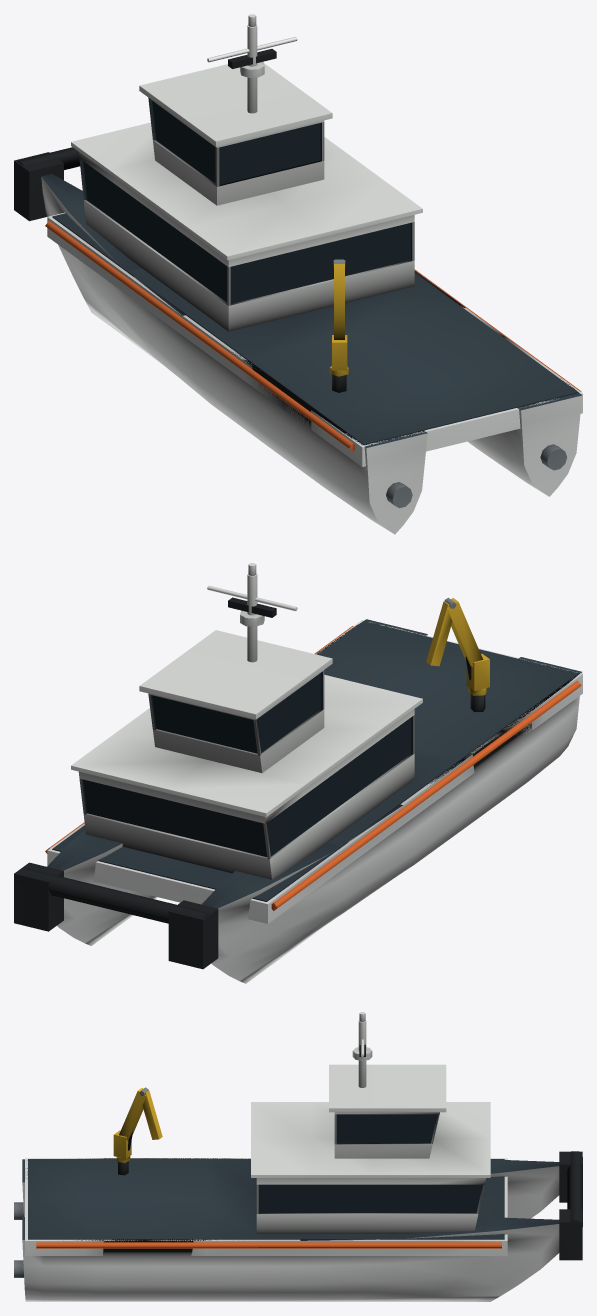
File: crew_boat_LOD1.glb
3 renders of one model, top to bottom at view 1: azimuth 30°, elevation 25°; view 2: azimuth 150°, elevation 25°; view 3: azimuth 270°, elevation 25°, orthographic. The views are drawn at different scales.
Parts seen in each view (by area): view 1: Superstructure, Deck, Hull, Windows, Safety, Rubber, Crane, Machinery; view 2: Superstructure, Hull, Deck, Windows, Rubber, Safety, Crane; view 3: Hull, Superstructure, Deck, Windows, Safety, Rubber, Crane, Machinery.
Boxes of the visible parts, box(x1,y1,x2,y2) form: Superstructure: box(71, 14, 422, 331); Deck: box(41, 174, 581, 447); Hull: box(41, 177, 582, 534); Windows: box(81, 99, 412, 303); Safety: box(45, 221, 581, 451); Rubber: box(14, 49, 276, 221); Crane: box(329, 259, 348, 376); Machinery: box(332, 260, 567, 508); Superstructure: box(71, 563, 422, 879); Hull: box(47, 620, 582, 983); Deck: box(47, 619, 581, 908); Windows: box(81, 671, 413, 856); Rubber: box(14, 597, 471, 969); Safety: box(45, 626, 581, 910); Crane: box(426, 598, 489, 695); Hull: box(22, 1158, 559, 1301); Superstructure: box(251, 1012, 490, 1233); Deck: box(22, 1158, 559, 1240); Windows: box(258, 1114, 482, 1213); Safety: box(36, 1242, 501, 1248); Rubber: box(128, 1044, 582, 1260); Crane: box(113, 1088, 162, 1162); Machinery: box(14, 1087, 148, 1277).
Size of the model in its own units: 7.38 by 10.28 by 20.41.
